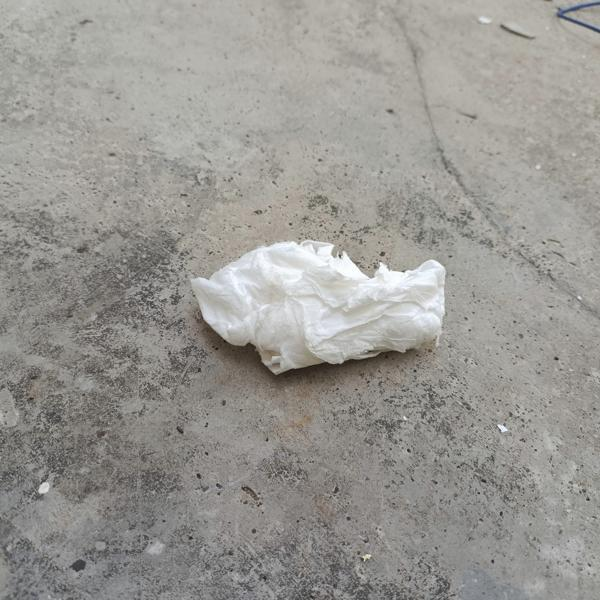Organik: (180, 233, 477, 387)
